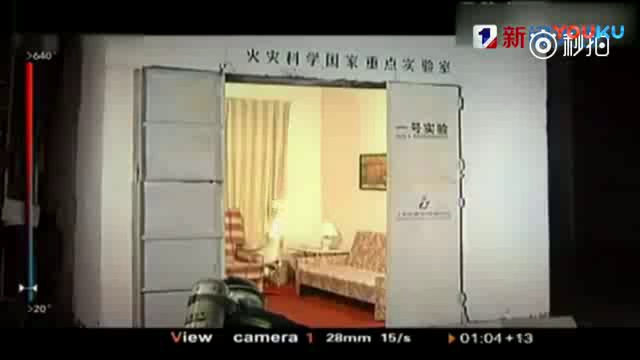fire: (266, 193, 328, 251)
